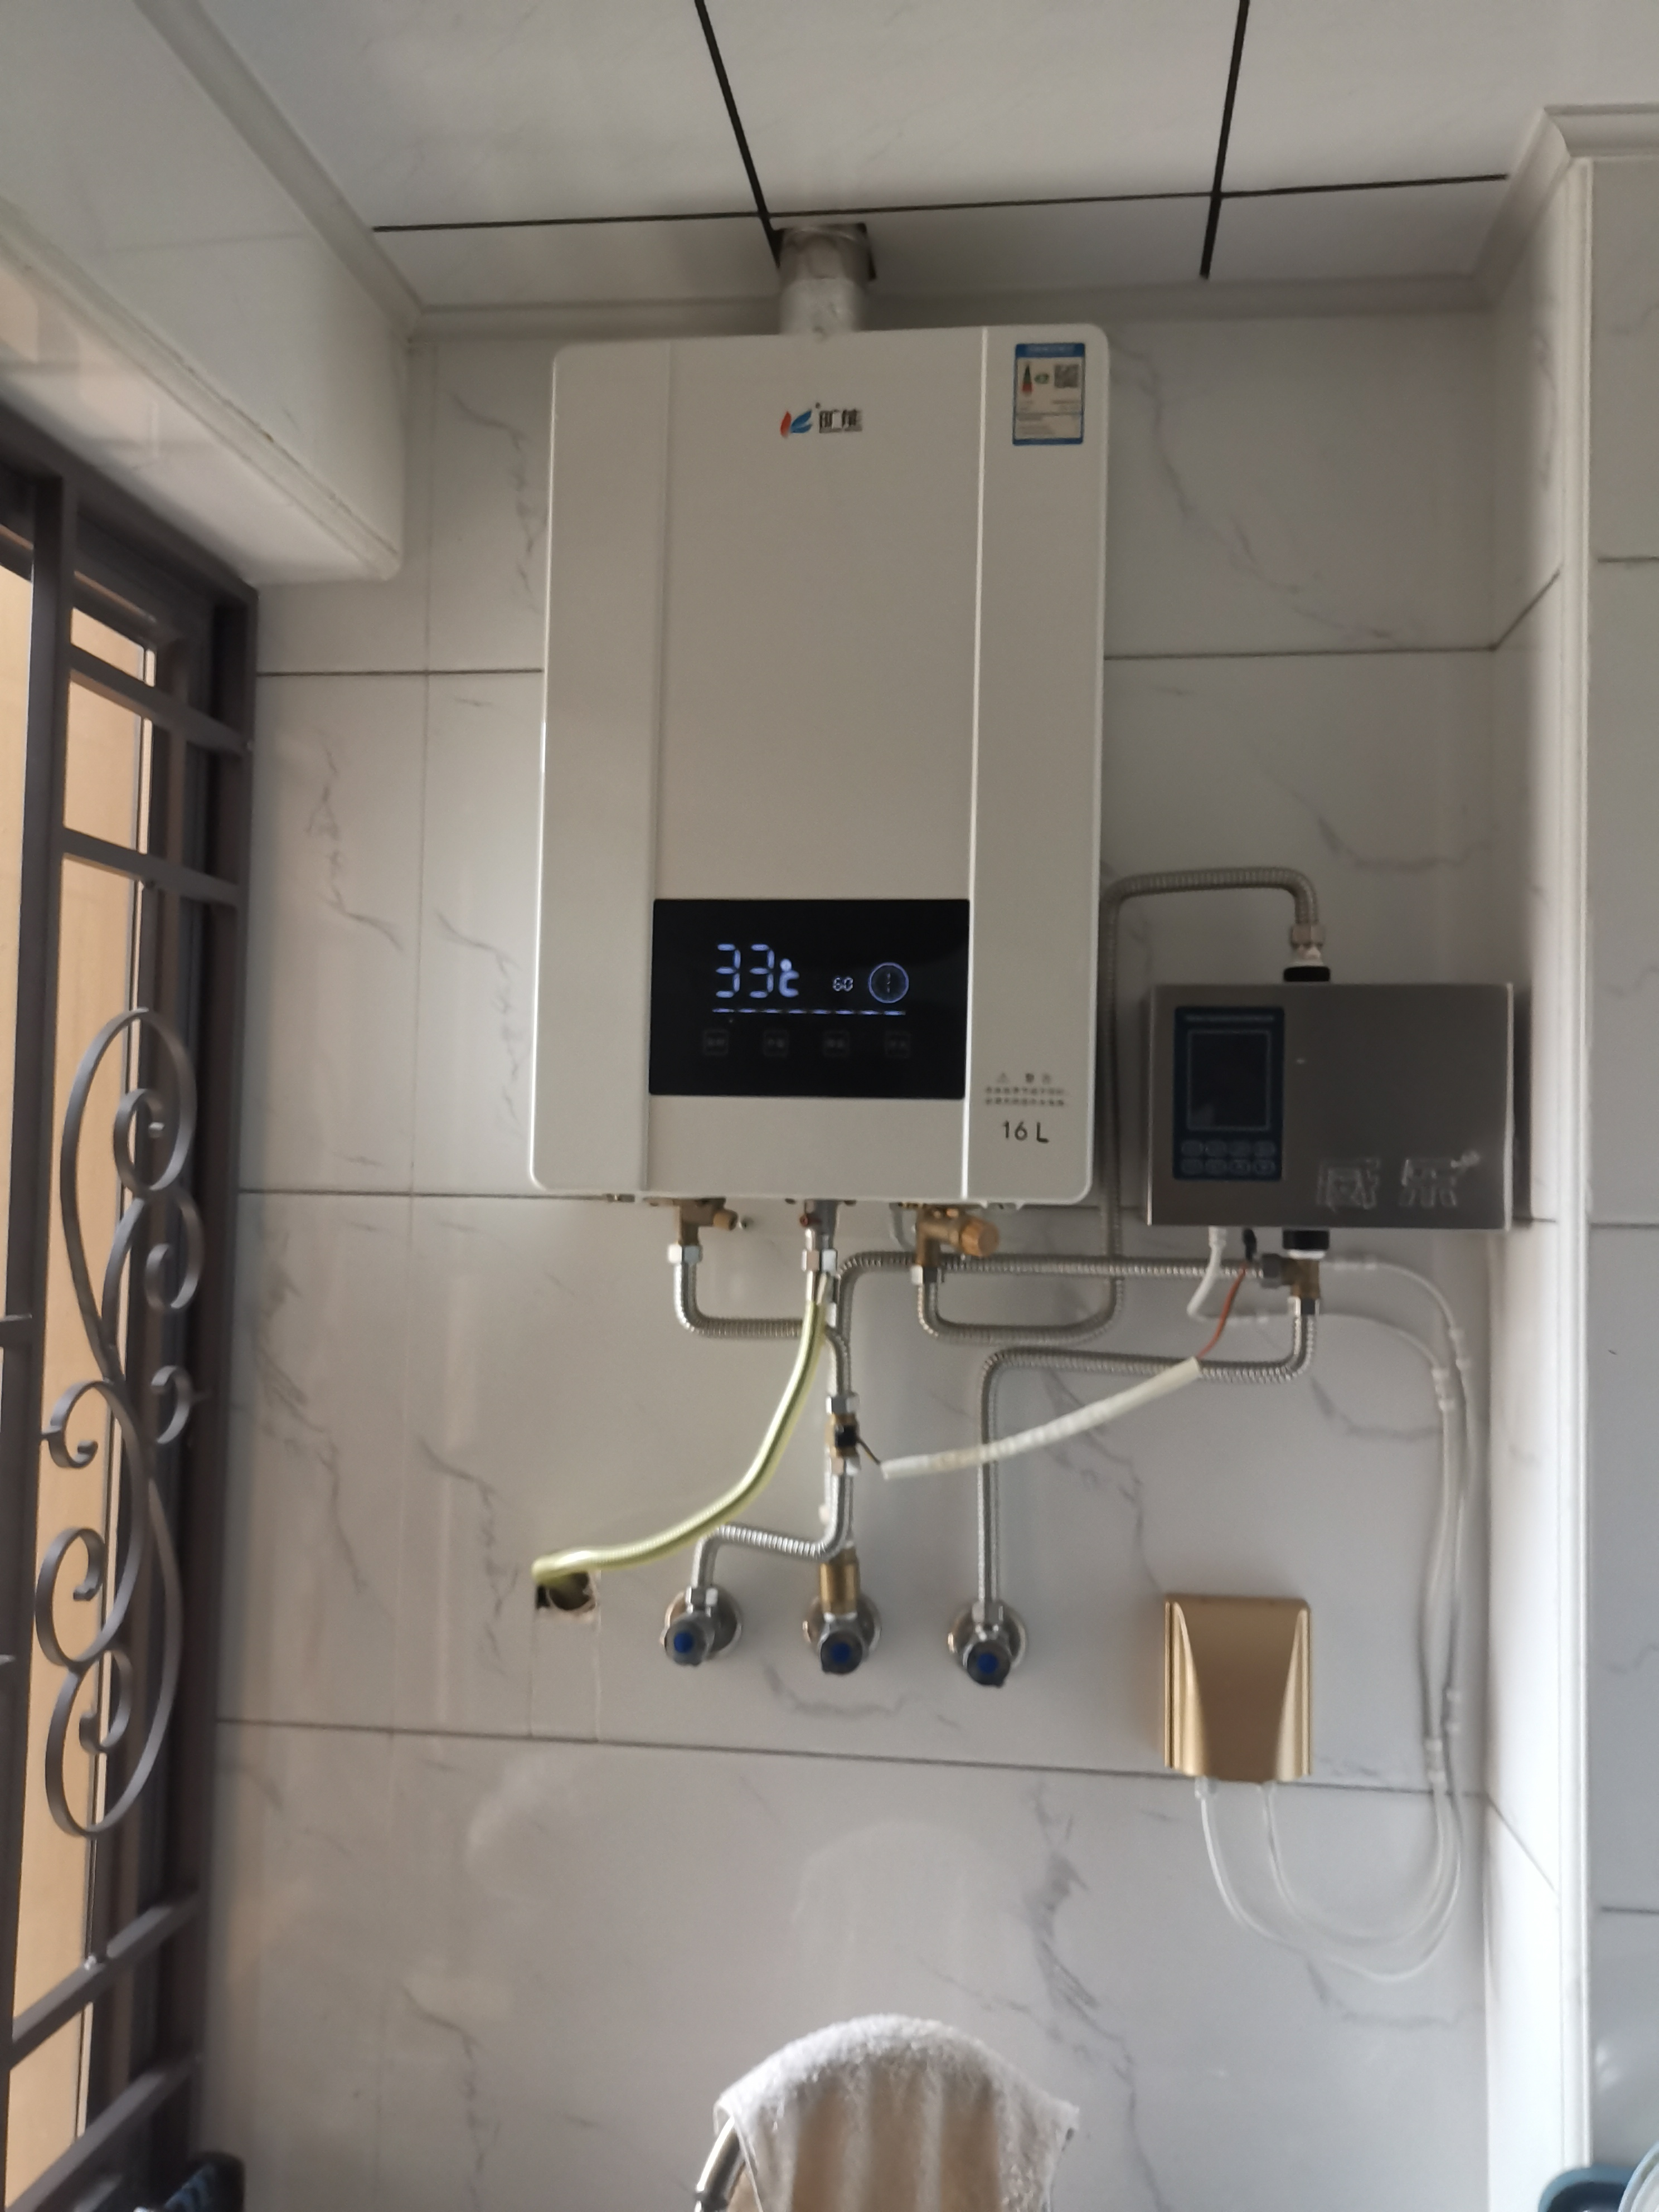loudou: (765, 397, 884, 446)
